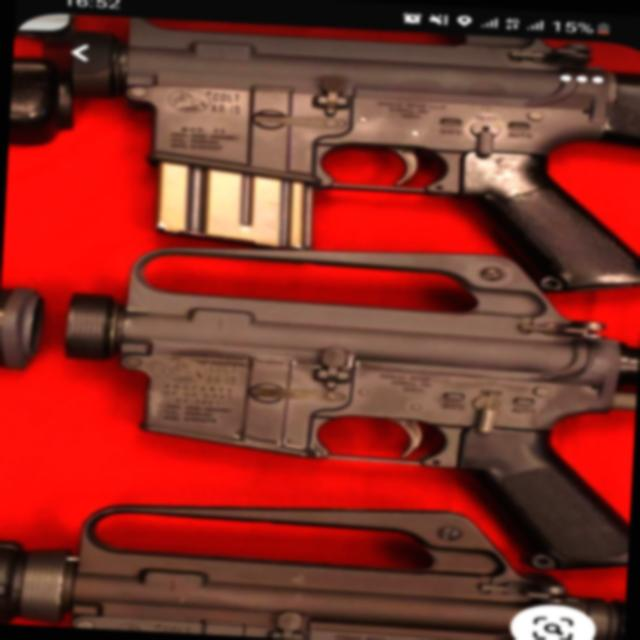m16: (74, 232, 637, 519)
